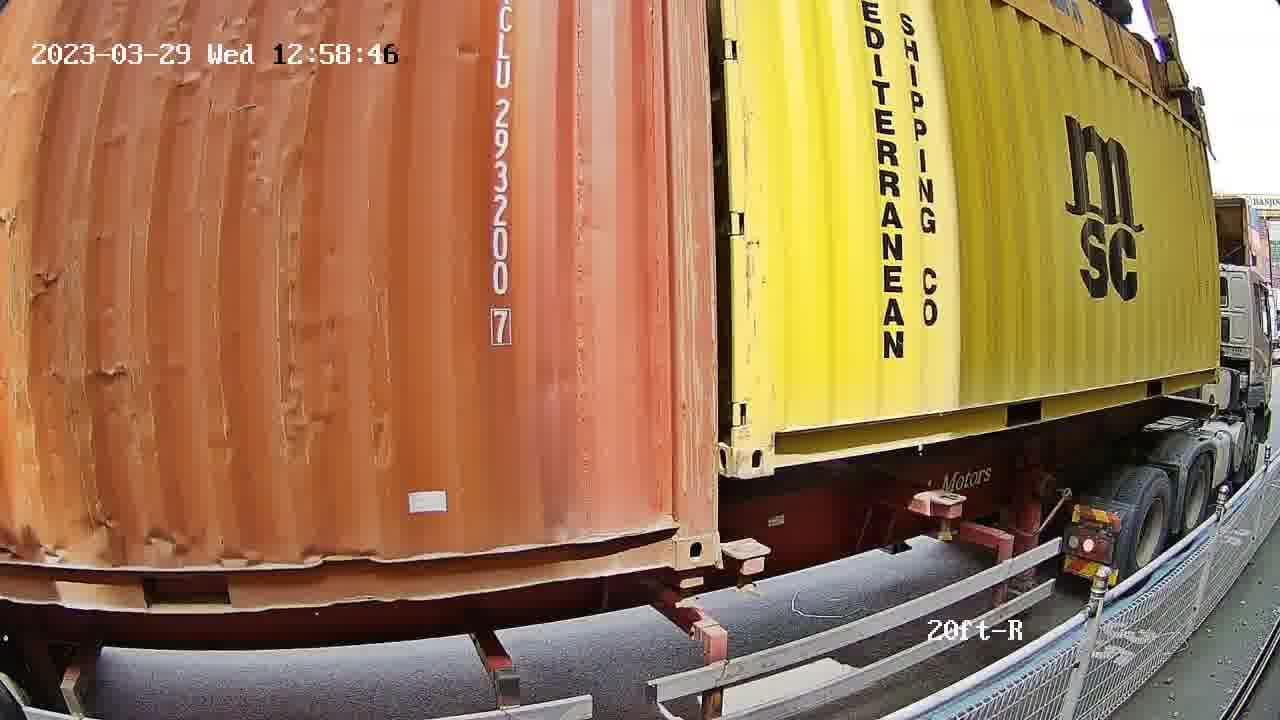Cone: (723, 540, 771, 593), (664, 569, 712, 612)
Hole_L: (731, 405, 808, 477)
Hole_R: (627, 494, 719, 571)
Tire: (1119, 469, 1170, 586), (1176, 450, 1214, 548)
